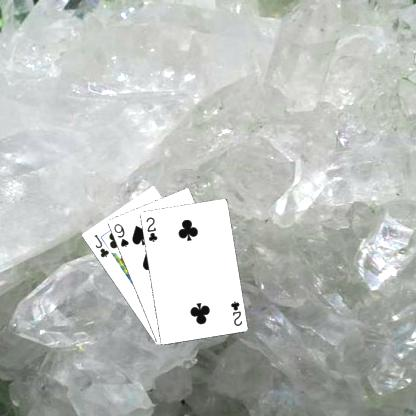2C: (143, 214, 159, 243), (228, 298, 243, 327)
9S: (111, 221, 130, 249)
JC: (91, 231, 110, 259)
